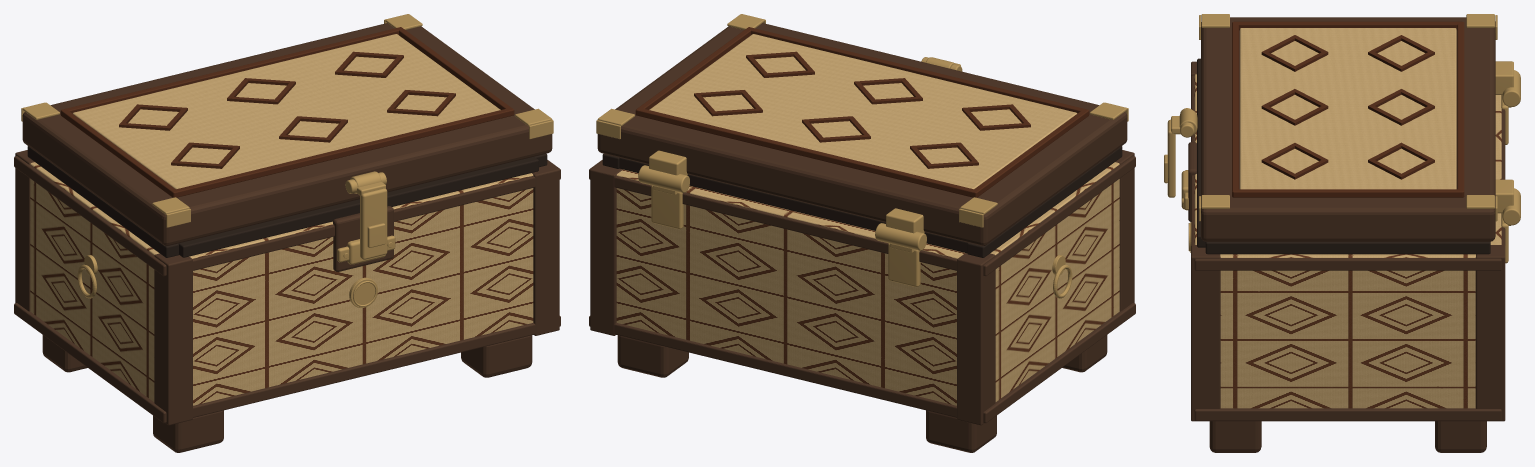
Rendered from tonga.glb.
3 views of the same model, side by side, from view 1: azimuth 30°, elevation 25°; view 2: azimuth 150°, elevation 25°; view 3: azimuth 270°, elevation 25° (orthographic). The views are drawn at different scales.
Parts seen in each view (by area): view 1: Ngatu / broad panel, Lid / ngatu panel, Lid / polished slab, Ngatu / side panel, Timber / corner, Seam / long, Timber / corner.002, Timber / long rail, Timber / long rail.002, Lid / border long, Timber / corner.001, Timber / short rail.002 (+17 smaller); view 2: Ngatu / broad panel.001, Lid / ngatu panel, Lid / polished slab, Ngatu / side panel, Timber / corner.001, Timber / corner.003, Timber / long rail.001, Timber / long rail.003, Lid / border long.001, Seam / long.001, Timber / corner, Timber / short rail.002 (+20 smaller); view 3: Ngatu / side panel.001, Lid / ngatu panel, Lid / polished slab, Timber / corner.003, Timber / corner.002, Timber / short rail.001, Timber / short rail.003, Seam / side.001, Lid / border short.001, Timber / foot.002, Timber / foot.003, Lid / border short (+22 smaller).
Boxes of the visible parts, left/top/right/bottom form: Ngatu / broad panel: left=189, top=173, right=533, bottom=405; Lid / ngatu panel: left=72, top=34, right=500, bottom=189; Lid / polished slab: left=22, top=23, right=552, bottom=245; Ngatu / side panel: left=30, top=162, right=159, bottom=401; Timber / corner: left=154, top=253, right=192, bottom=425; Seam / long: left=178, top=156, right=538, bottom=257; Timber / corner.002: left=532, top=161, right=559, bottom=335; Timber / long rail: left=192, top=323, right=535, bottom=417; Timber / long rail.002: left=192, top=176, right=535, bottom=270; Lid / border long: left=172, top=108, right=514, bottom=197; Timber / corner.001: left=15, top=150, right=34, bottom=311; Timber / short rail.002: left=14, top=156, right=166, bottom=276; Ngatu / broad panel.001: left=616, top=169, right=964, bottom=405; Lid / ngatu panel: left=649, top=34, right=1077, bottom=189; Lid / polished slab: left=597, top=23, right=1127, bottom=245; Ngatu / side panel: left=990, top=162, right=1119, bottom=401; Timber / corner.001: left=957, top=253, right=995, bottom=425; Timber / corner.003: left=590, top=161, right=622, bottom=335; Timber / long rail.001: left=614, top=323, right=957, bottom=417; Timber / long rail.003: left=614, top=176, right=957, bottom=270; Lid / border long.001: left=635, top=108, right=976, bottom=197; Seam / long.001: left=619, top=157, right=968, bottom=253; Timber / corner: left=1115, top=150, right=1134, bottom=311; Timber / short rail.002: left=983, top=156, right=1135, bottom=276; Ngatu / side panel.001: left=1220, top=254, right=1475, bottom=408; Lid / ngatu panel: left=1240, top=28, right=1456, bottom=189; Lid / polished slab: left=1201, top=17, right=1495, bottom=241; Timber / corner.003: left=1475, top=245, right=1505, bottom=421; Timber / corner.002: left=1191, top=245, right=1220, bottom=421; Timber / short rail.001: left=1194, top=408, right=1501, bottom=421; Timber / short rail.003: left=1194, top=258, right=1501, bottom=270; Seam / side.001: left=1205, top=242, right=1490, bottom=254; Lid / border short.001: left=1233, top=189, right=1462, bottom=197; Timber / foot.002: left=1209, top=421, right=1261, bottom=452; Timber / foot.003: left=1435, top=421, right=1486, bottom=452; Lid / border short: left=1234, top=21, right=1462, bottom=30.
Size of the model in its own units: 3.82 by 2.31 by 2.88.
Materials: 6 (2 with a texture image).
